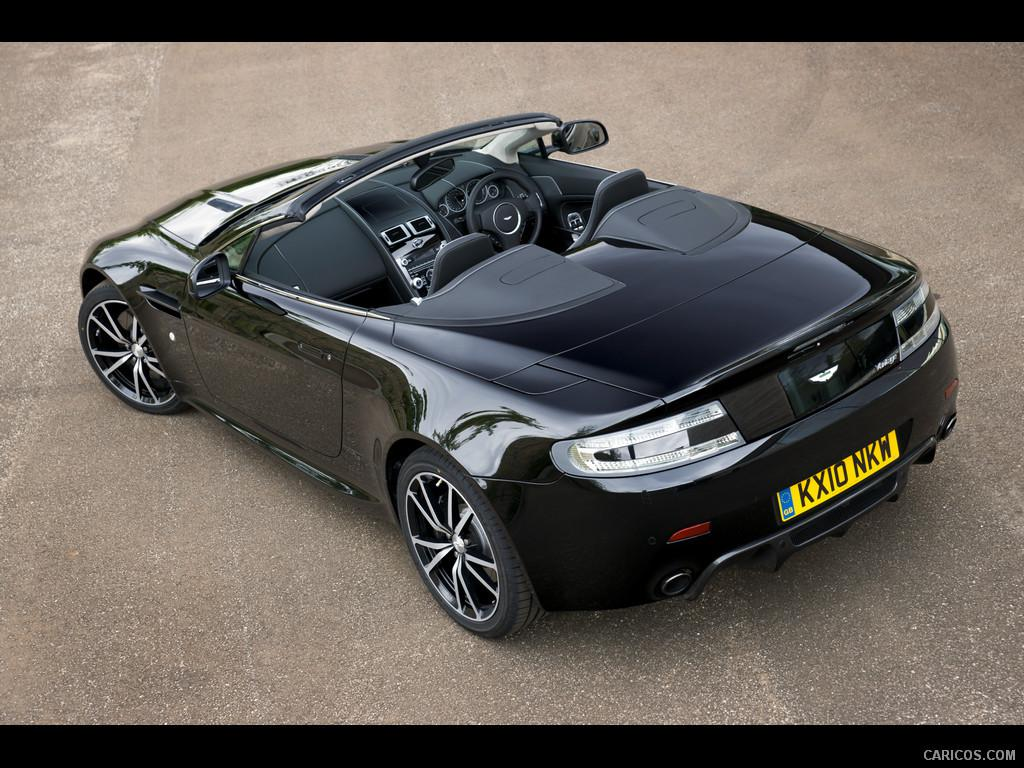Car: (53, 63, 1015, 668)
